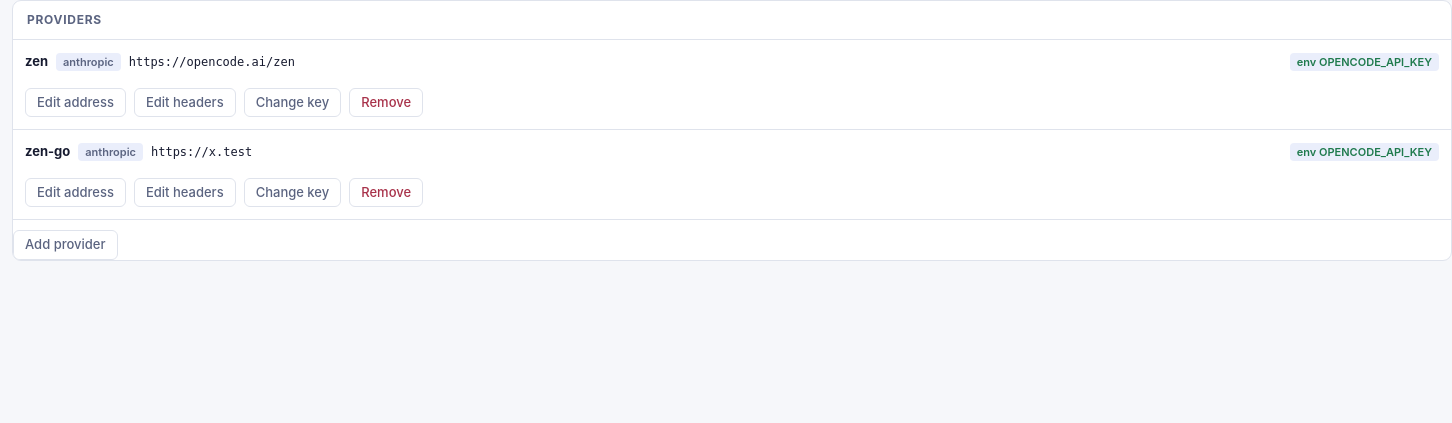
Test: Providers — the address editor › opens the editor only for the row whose button was clicked
Click the button "Edit address" below "zen-go".
click(75, 192)  # box x1=25 y1=178 x2=126 y2=207
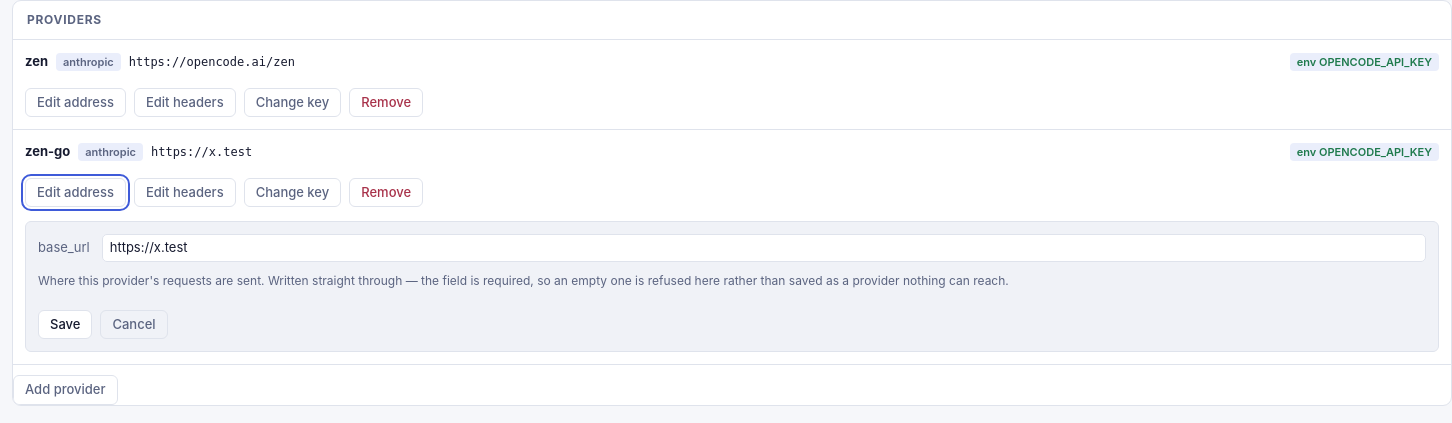
Now the field labelled "base_url" holds "https://x.test", box x1=102 y1=234 x2=1426 y2=262
